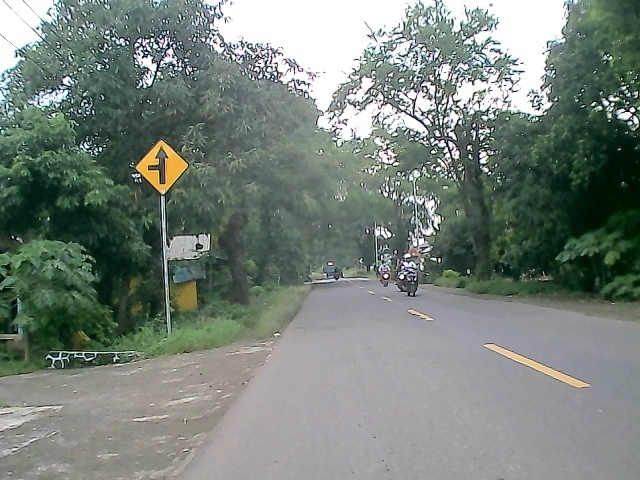Simpang kiri dengan prioritas: (136, 139, 190, 196)
